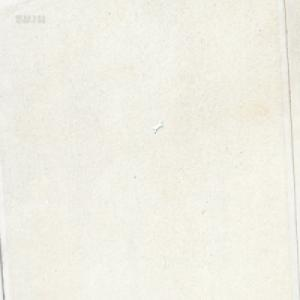Wrench: (152, 120, 163, 133)
